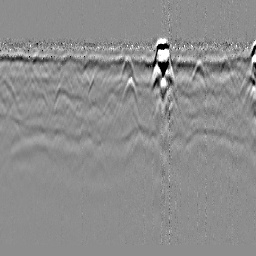cavity: (116, 53, 139, 85)
